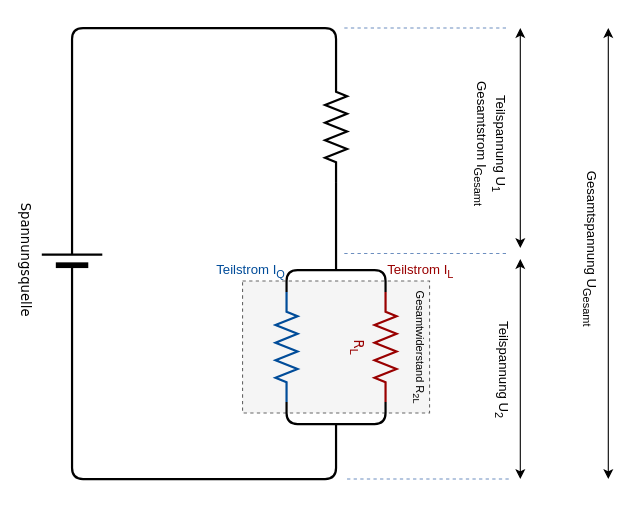
The diagram is 638 pixels wide and 508 high, and some of its shapes have lost their labels. Here are the shapes that lost their labels. From the top down, the box of each, then its label:
(323, 70, 348, 183): R 1
(274, 290, 298, 403): R 2
